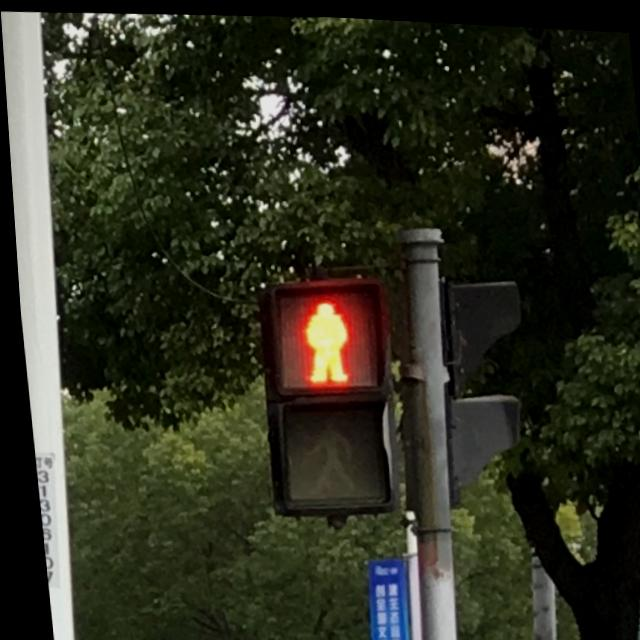red_light: (263, 279, 377, 394)
